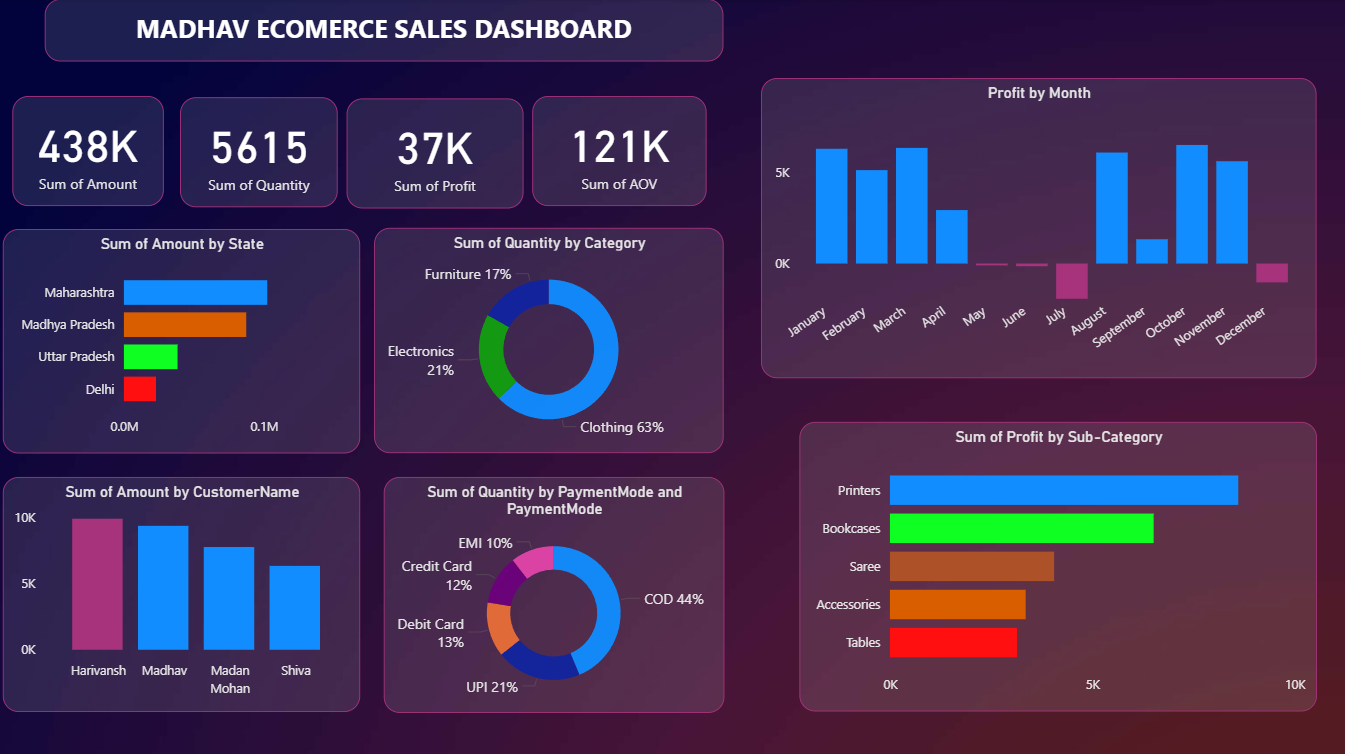

The page's visual inventory and layout, read from the dashboard file:
{"tool":"powerbi","page":{"name":"Page 1","canvas":[1280,720],"ordinal":0},"visuals":[{"type":"textbox","box":[43.9,0,643.6,59],"z":0},{"type":"columnChart","title":"Profit by Month","fields":{"Y":["Sum(Details.Profit)"],"Category":["Orders.Order Date.Variation.Date Hierarchy.Month"]},"box":[723.9,74.8,526.4,284.7],"z":1000},{"type":"barChart","fields":{"Category":["Details.Sub-Category"],"Y":["Sum(Details.Profit)"]},"box":[759.5,401.2,490.8,274.8],"z":2000},{"type":"donutChart","fields":{"Y":["Sum(Details.Quantity)"],"Series":["Details.PaymentMode"],"Category":["Details.PaymentMode"]},"box":[365.6,452.8,322.7,223.3],"z":3000},{"type":"donutChart","fields":{"Category":["Details.Category"],"Y":["Sum(Details.Quantity)"]},"box":[357.1,217.2,331.3,213.5],"z":4000},{"type":"card","fields":{"Values":["Sum(Details.Amount)"]},"box":[13.5,92,143.6,104.3],"z":5000},{"type":"card","fields":{"Values":["Sum(Details.Quantity)"]},"box":[173,93.3,149.7,104.3],"z":6000},{"type":"card","fields":{"Values":["Sum(Details.Profit)"]},"box":[330.1,94.5,168.1,104.3],"z":7000},{"type":"card","fields":{"Values":["Sum(Details.AOV)"]},"box":[506.8,92,165.6,104.3],"z":8000},{"type":"barChart","fields":{"Category":["Orders.State"],"Y":["Sum(Details.Amount)"]},"box":[4.1,218.2,338.9,212.7],"z":9000},{"type":"columnChart","fields":{"Category":["Orders.CustomerName"],"Y":["Sum(Details.Amount)"]},"box":[4,453,339,223],"z":10000}]}

Visuals, with their boxes in screenshot pixels (x1, y1, x2, y2), scaled from the page's 1280x720 canvas onto the 1345x754 screenshot:
textbox: [46, 0, 722, 62]
"Profit by Month" columnChart: [761, 78, 1314, 376]
barChart - Details.Sub-Category x Sum(Details.Profit): [798, 420, 1314, 708]
donutChart - Sum(Details.Quantity) x Details.PaymentMode: [384, 474, 723, 708]
donutChart - Details.Category x Sum(Details.Quantity): [375, 227, 723, 451]
card - Sum(Details.Amount): [14, 96, 165, 206]
card - Sum(Details.Quantity): [182, 98, 339, 207]
card - Sum(Details.Profit): [347, 99, 523, 208]
card - Sum(Details.AOV): [533, 96, 707, 206]
barChart - Orders.State x Sum(Details.Amount): [4, 229, 360, 451]
columnChart - Orders.CustomerName x Sum(Details.Amount): [4, 474, 360, 708]
